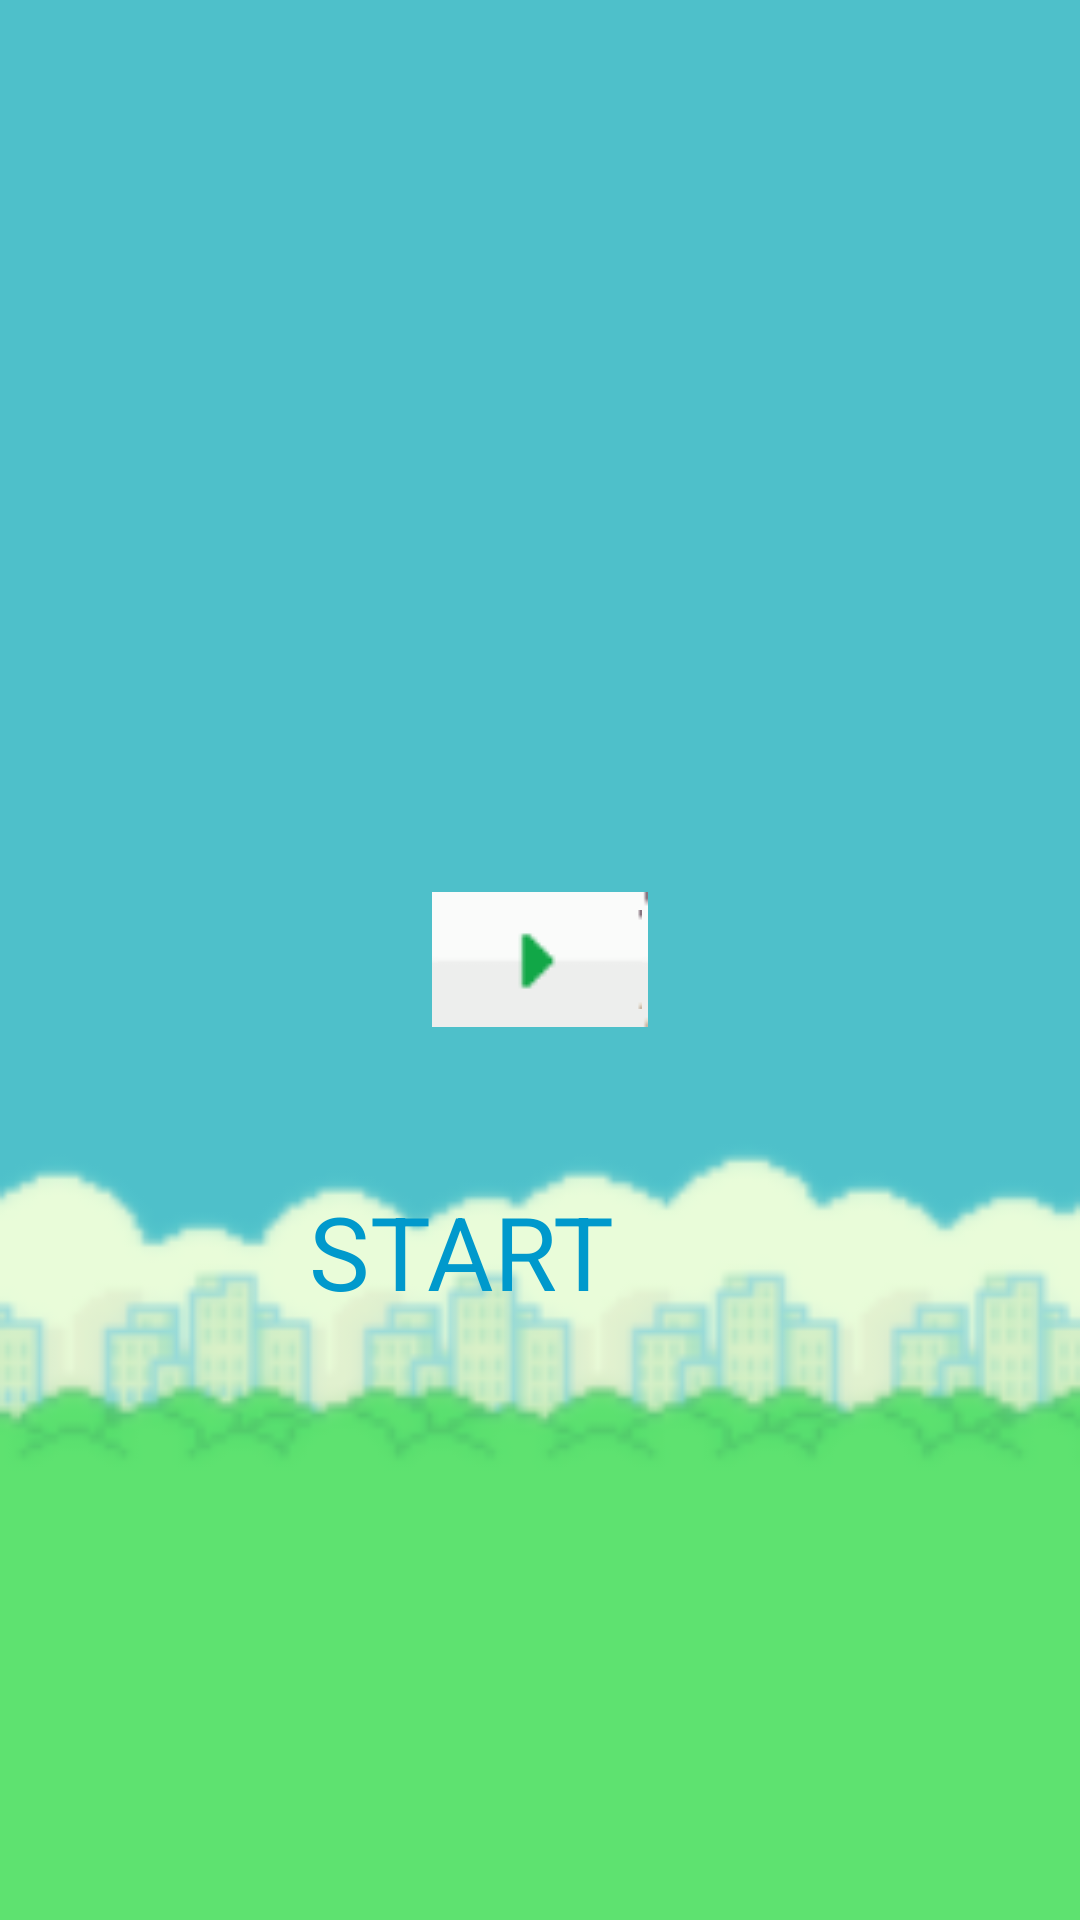

Icon bounding boxes for this 1080 x 1920 phone screenshot, format (x1, y1, x2, y2):
play: (432, 892, 648, 1027)
